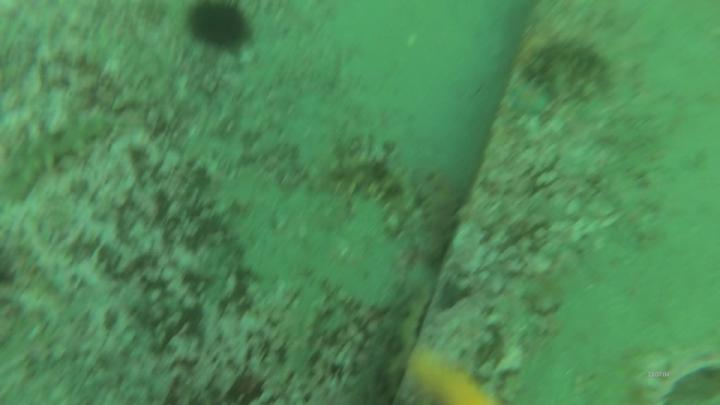echinus: (180, 1, 258, 52)
holothurian: (328, 146, 414, 233), (522, 33, 606, 96)
